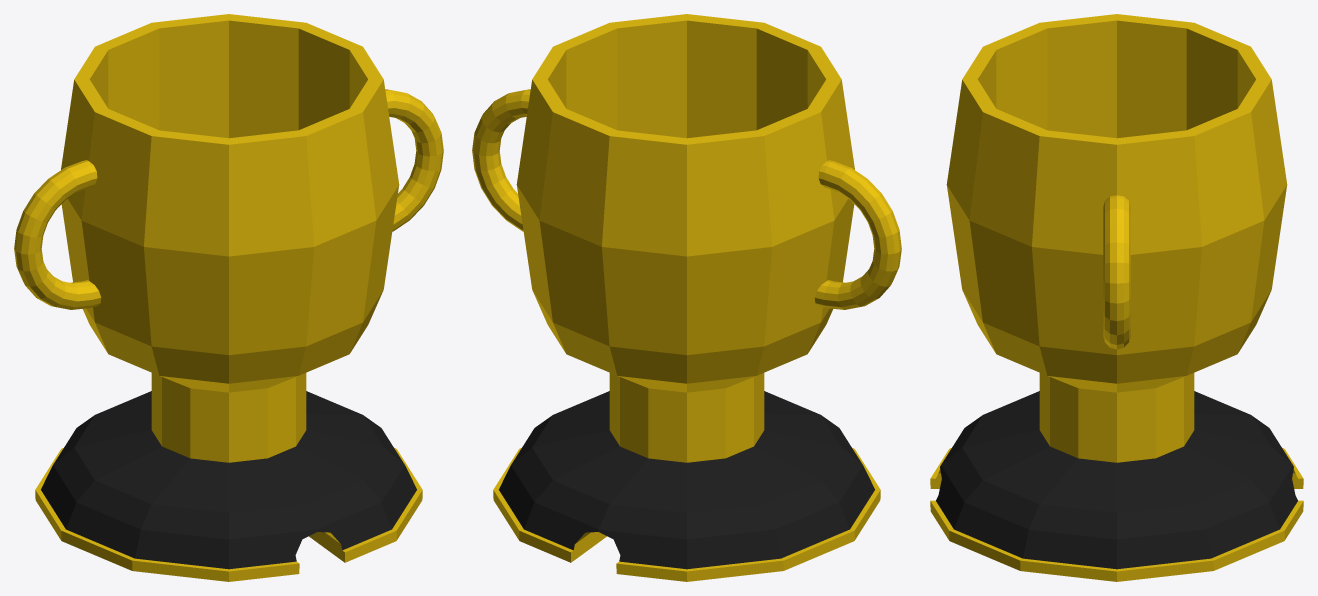
The model's file is Trophy.fbx.
The picture shows the model from 3 angles, left to right: view 1: azimuth 30°, elevation 25°; view 2: azimuth 150°, elevation 25°; view 3: azimuth 270°, elevation 25°; orthographic projection.
Parts seen in each view (by area): view 1: Trophy; view 2: Trophy; view 3: Trophy.
Boxes of the visible parts, x1,y1,x2,y2 form: Trophy: (14, 14, 443, 581); Trophy: (472, 14, 901, 581); Trophy: (930, 14, 1303, 581).
Bounding box in the file's own units: 89 × 84 × 67.52.
